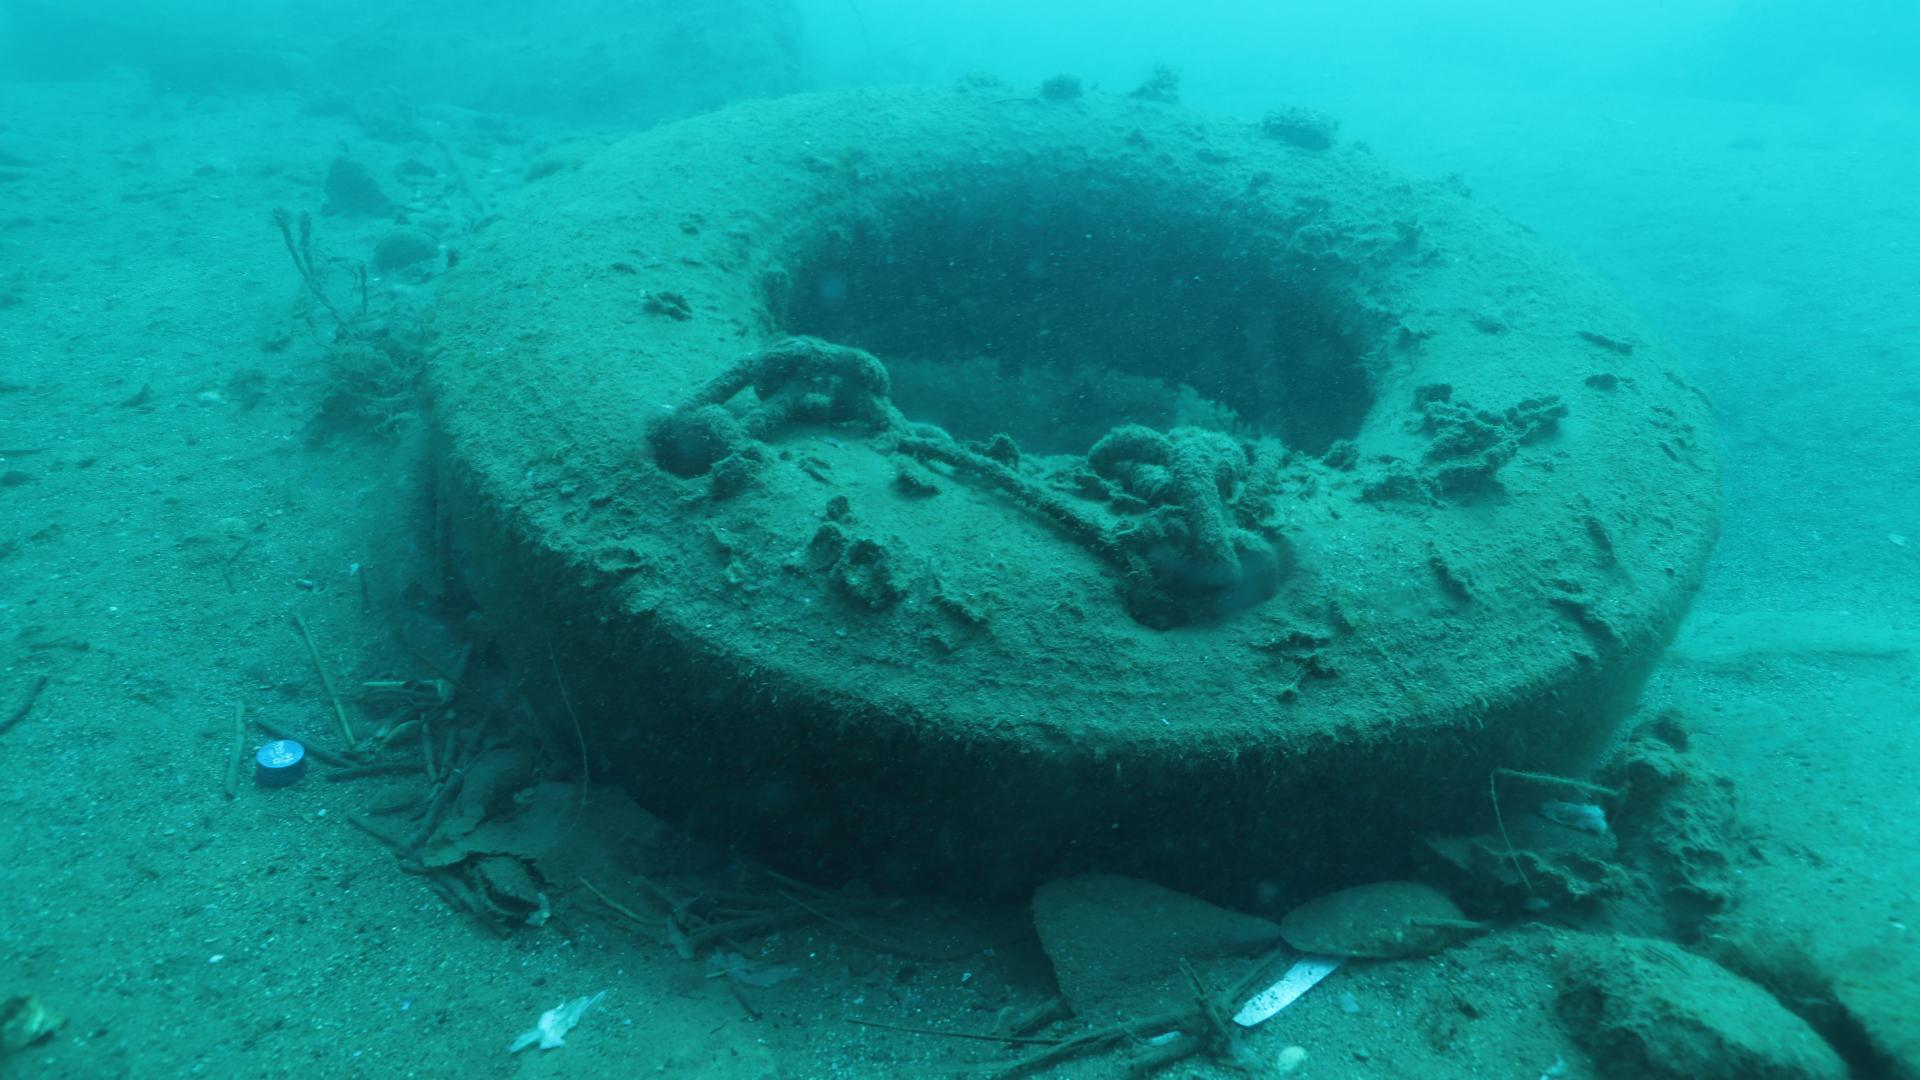tire: (426, 79, 1721, 891)
